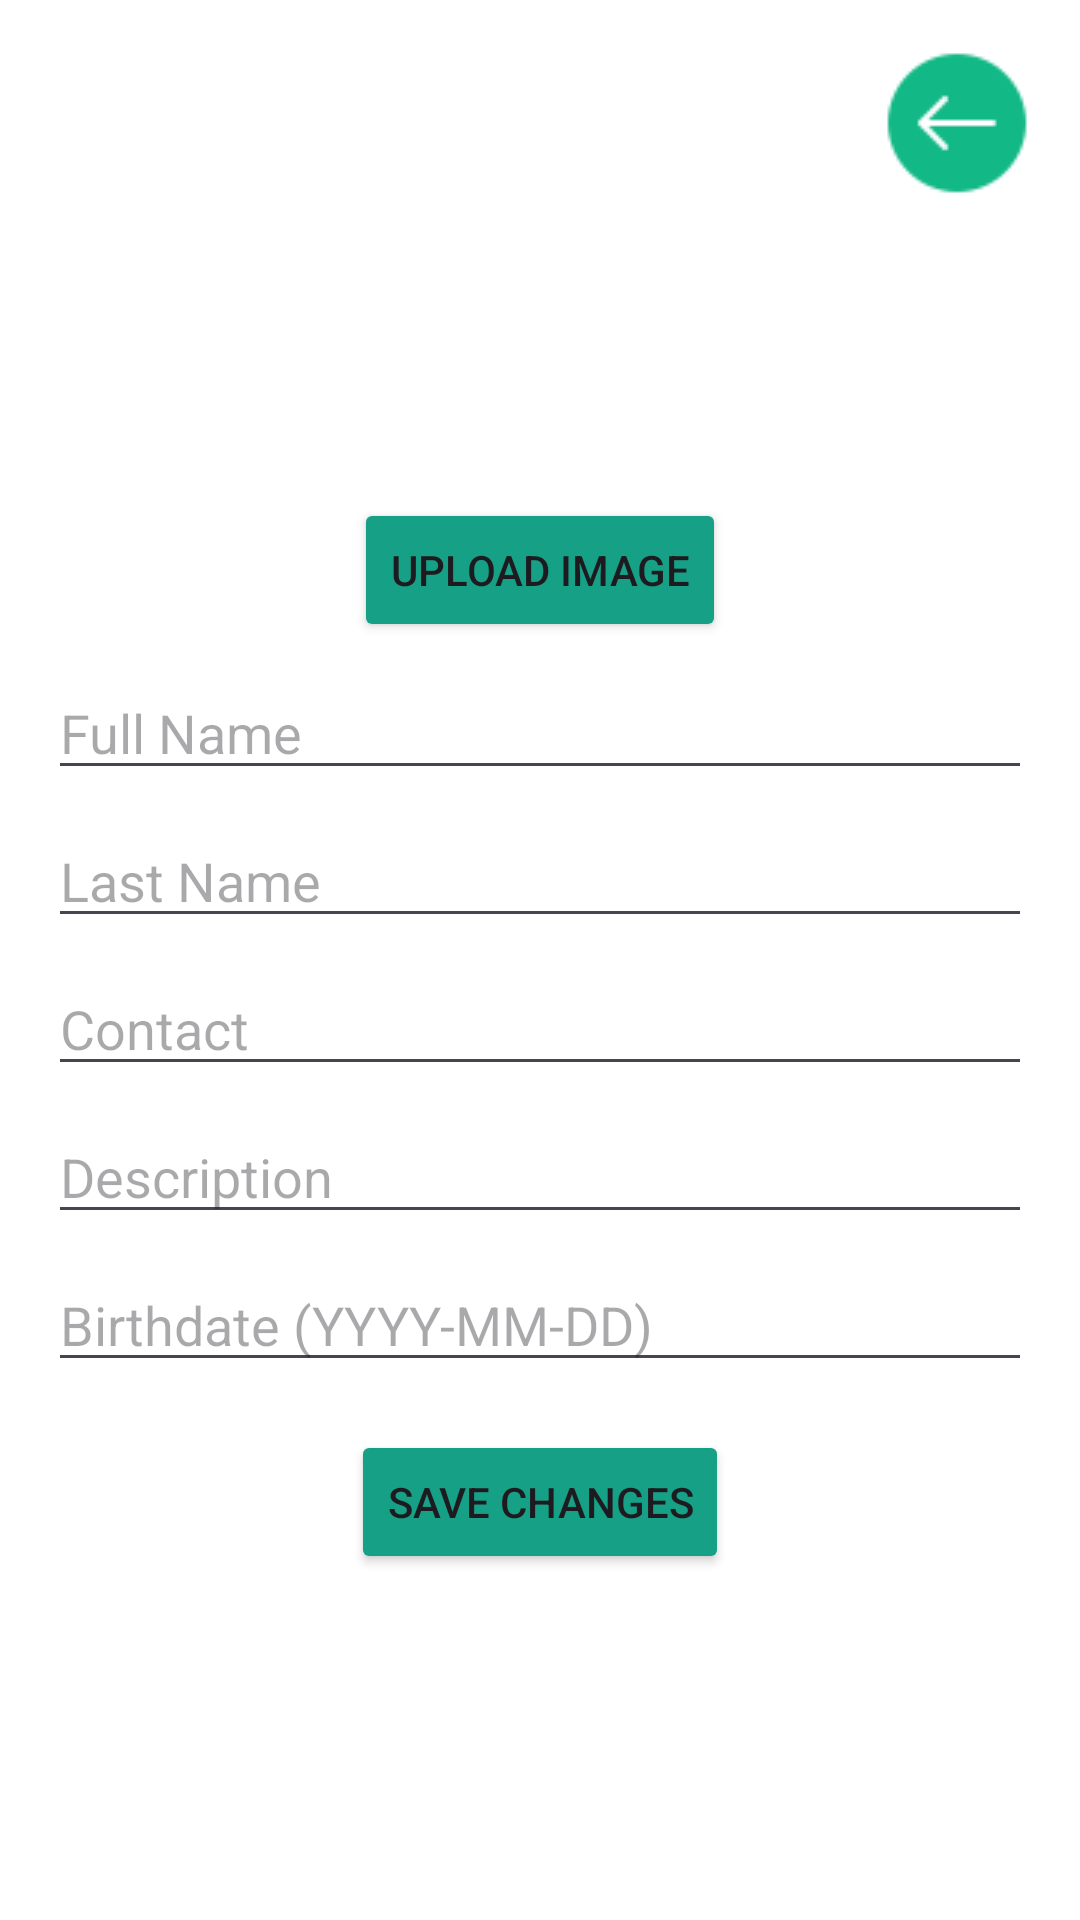

Locate icon controls on the screen. Image size 1080px×1920px, boxes as (x1, y1, x2, y2).
back: (887, 53, 1027, 193)
